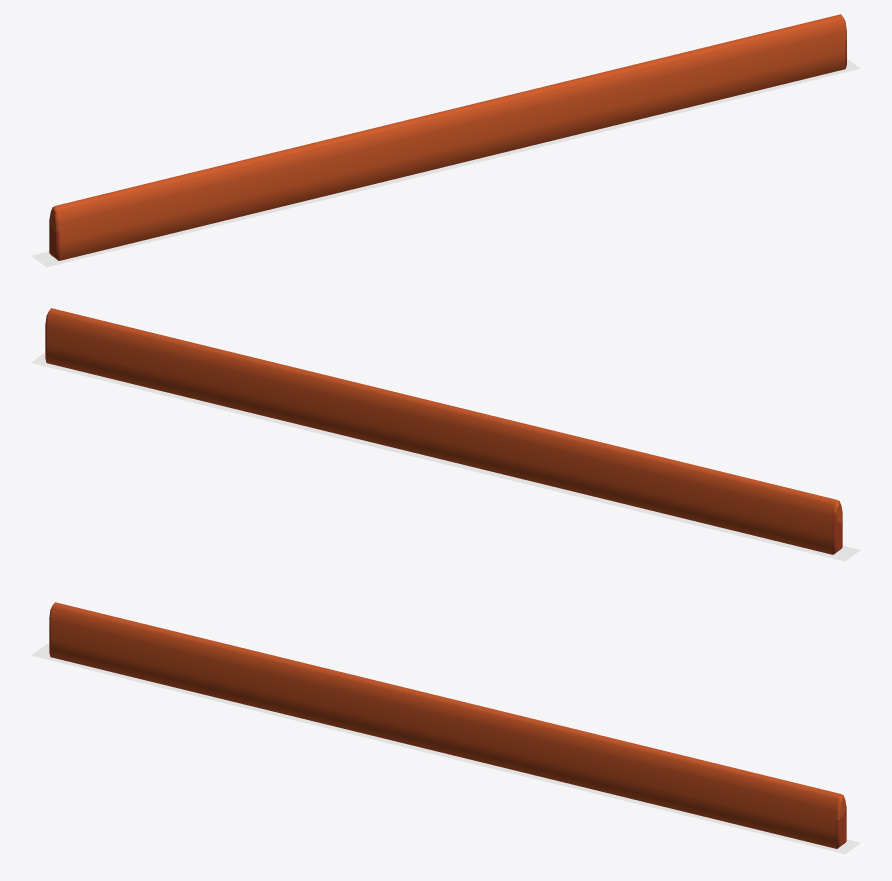
The model's file is NormalContent.fbx.
The picture shows the model from 3 angles, top to bottom: view 1: azimuth 30°, elevation 25°; view 2: azimuth 150°, elevation 25°; view 3: azimuth 330°, elevation 25°; orthographic projection.
Parts seen in each view (by area): view 1: BasicObstacle, Shadow; view 2: BasicObstacle, Shadow; view 3: BasicObstacle, Shadow.
Boxes of the visible parts, bbox=[...] form: BasicObstacle: bbox=[49, 14, 846, 260]; Shadow: bbox=[31, 58, 860, 267]; BasicObstacle: bbox=[45, 308, 842, 554]; Shadow: bbox=[31, 352, 860, 561]; BasicObstacle: bbox=[49, 602, 846, 848]; Shadow: bbox=[31, 644, 860, 854].
Bounding box in the file's own units: 6.45 × 0.3992 × 0.6805.
